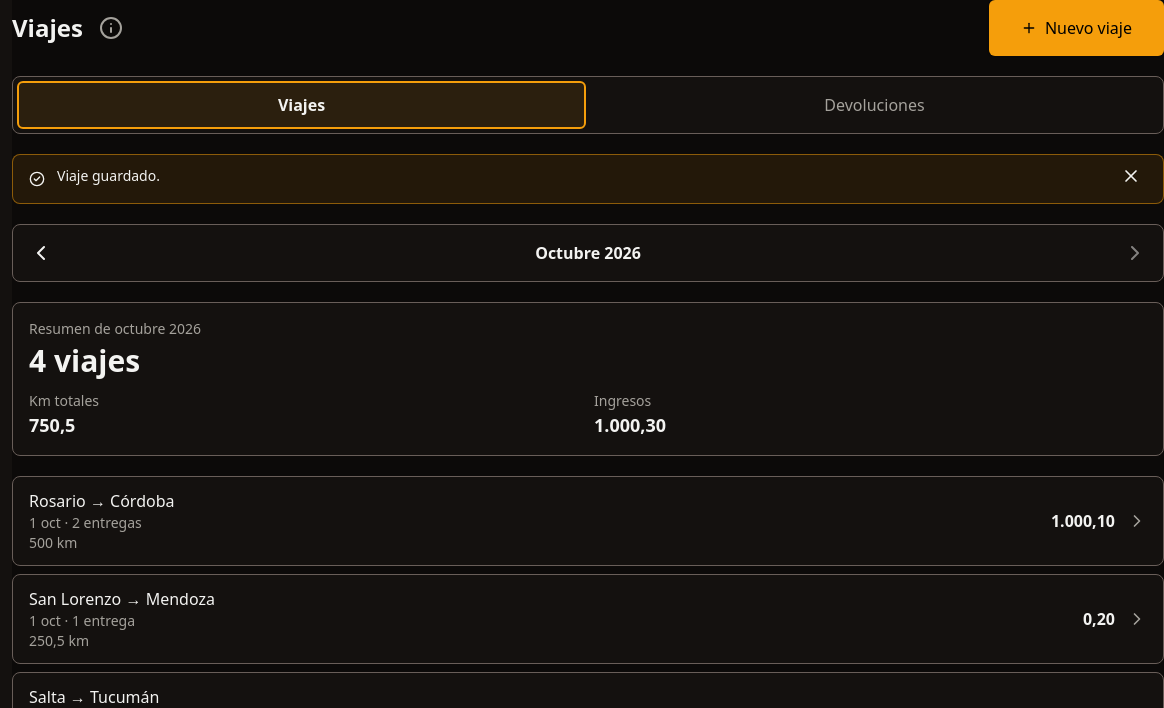
lista de viajes: aviso al volver de guardar o eliminar › "Viaje guardado." con el estado de la navegación; se cierra con la X
This screenshot has width=1164, height=708.
Expected: the message "Viaje guardado." is shown, [12,154,1163,204]
Click the button named "Cerrar aviso".
click(1131, 176)  # box [1107,152,1155,200]
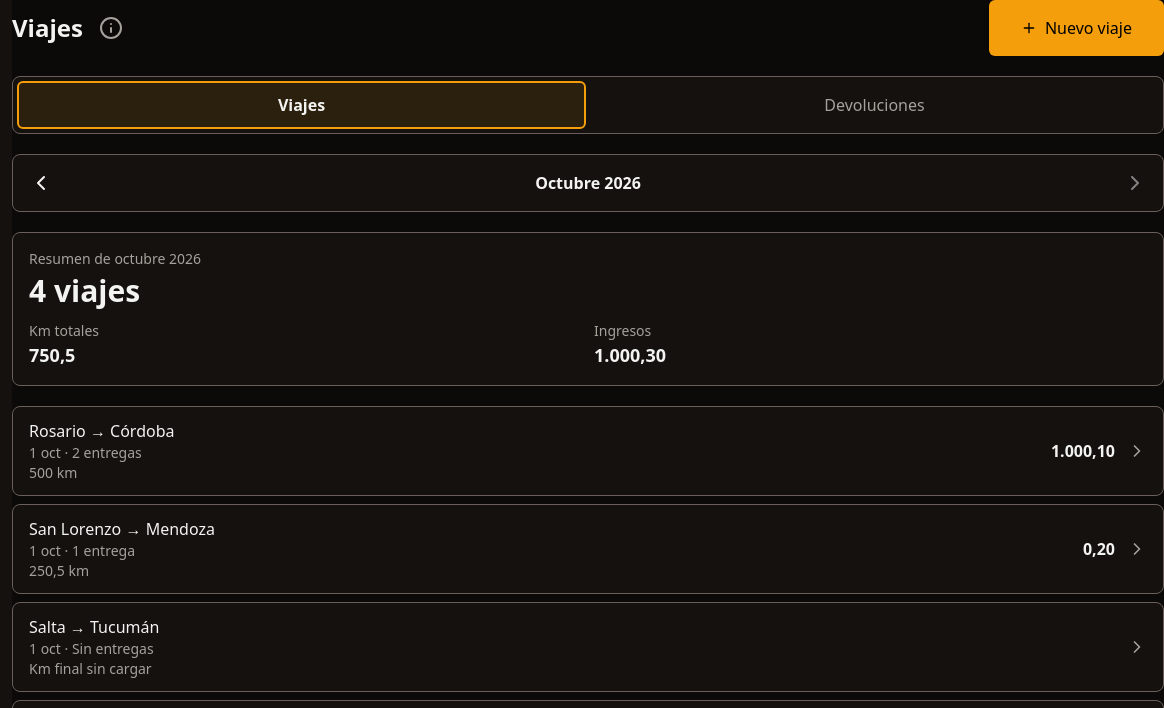
Result: the text "Viaje guardado." is gone
